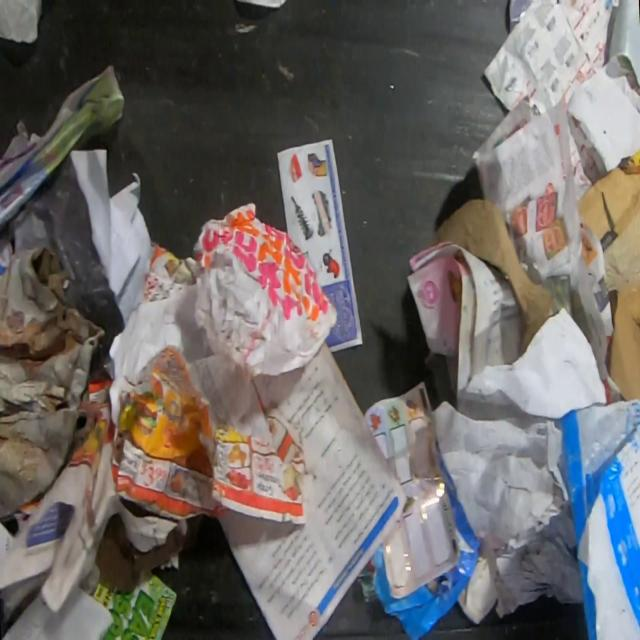cardboard: (0, 243, 106, 523), (368, 460, 481, 639), (434, 196, 556, 359), (576, 144, 640, 400)
soft_plastic: (362, 378, 461, 598), (558, 397, 640, 640)
